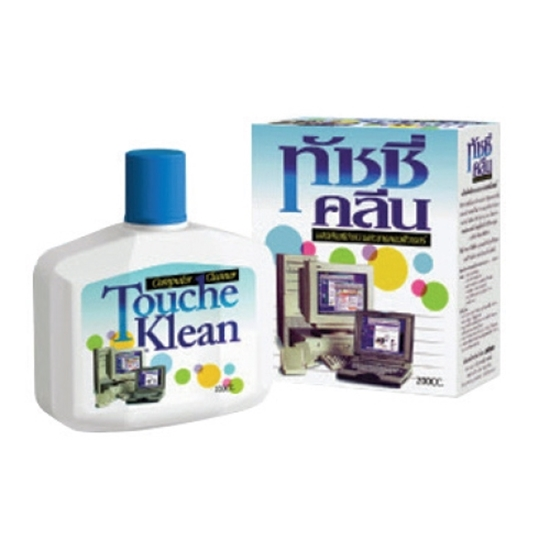Cleaning_solution: (21, 144, 285, 439)
